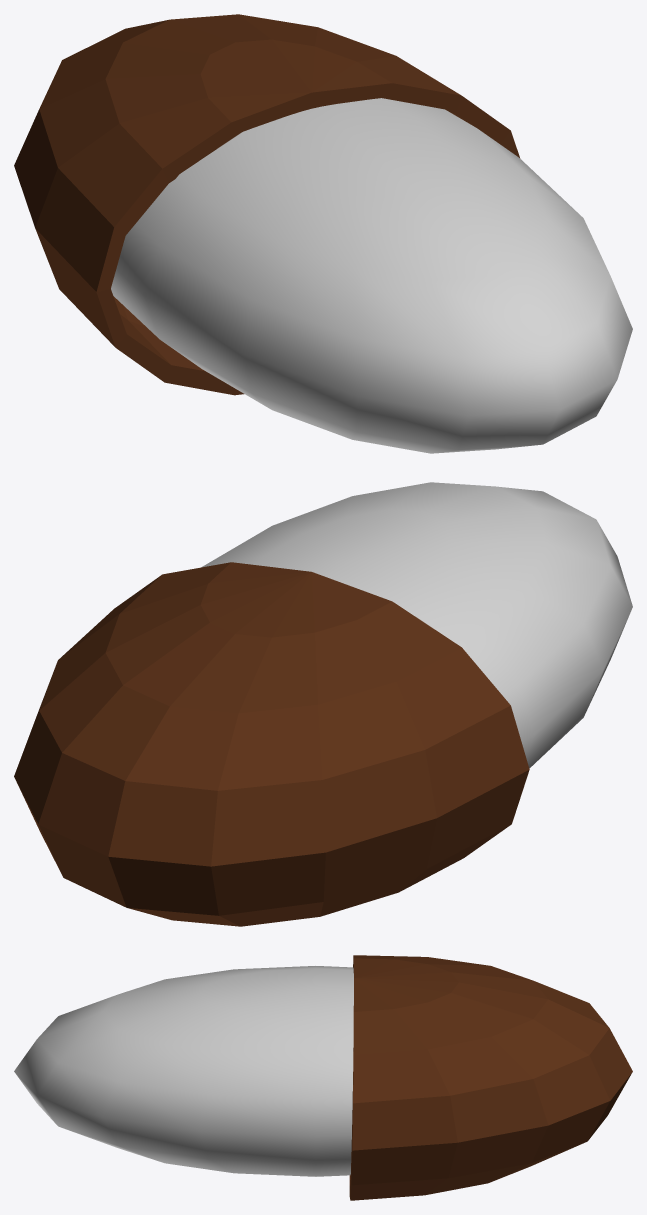
File: item-eye1.obj
The picture shows the model from 3 angles, top to bottom: view 1: azimuth 30°, elevation 25°; view 2: azimuth 150°, elevation 25°; view 3: azimuth 270°, elevation 25°; orthographic projection. The views are drawn at different scales.
Parts seen in each view (by area): view 1: eye-left; view 2: eye-left; view 3: eye-left.
Part boxes in pixels (x1=…): eye-left: x1=14, y1=14, x2=632, y2=453; eye-left: x1=14, y1=482, x2=632, y2=926; eye-left: x1=14, y1=955, x2=632, y2=1200.
Bounding box in the file's own units: 0.3103 × 0.1991 × 0.5602.
